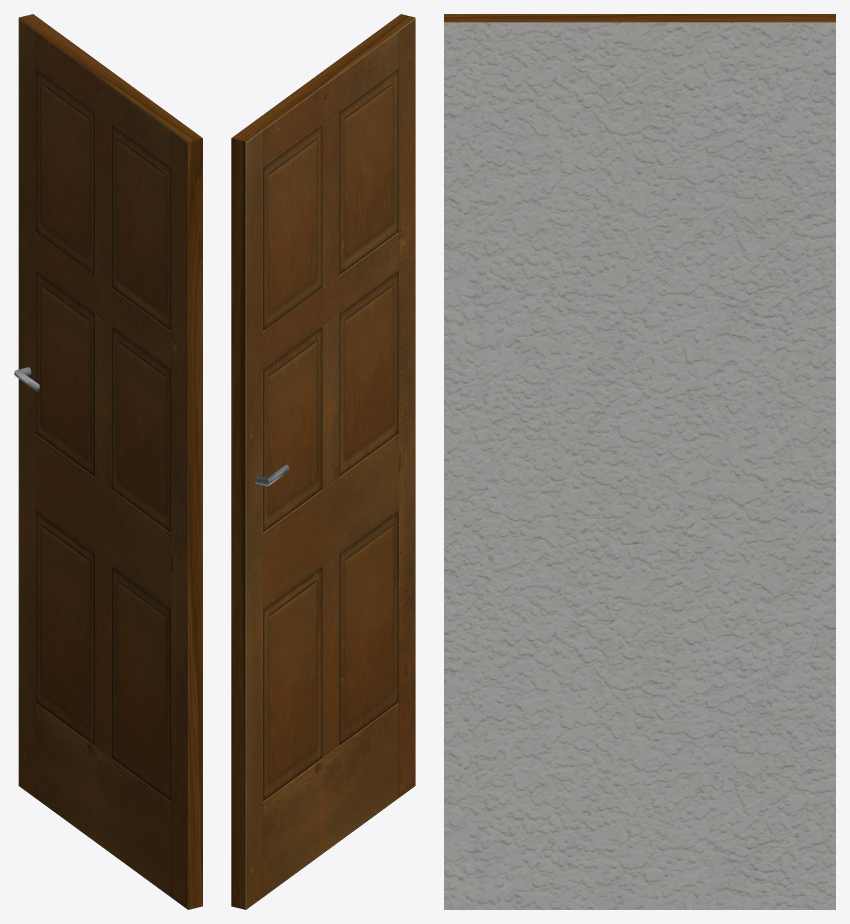
File: door.fbx
3 views of the same model, side by side, from view 1: azimuth 30°, elevation 25°; view 2: azimuth 150°, elevation 25°; view 3: azimuth 270°, elevation 25° (orthographic). The views are drawn at different scales.
Parts seen in each view (by area): view 1: Cube; view 2: Cube; view 3: Cube.
Boxes of the visible parts, x1,y1,x2,y2 form: Cube: (18, 14, 202, 909); Cube: (231, 14, 415, 909); Cube: (444, 14, 835, 909).
Size of the model in its own units: 0.0771 by 2 by 0.8.
